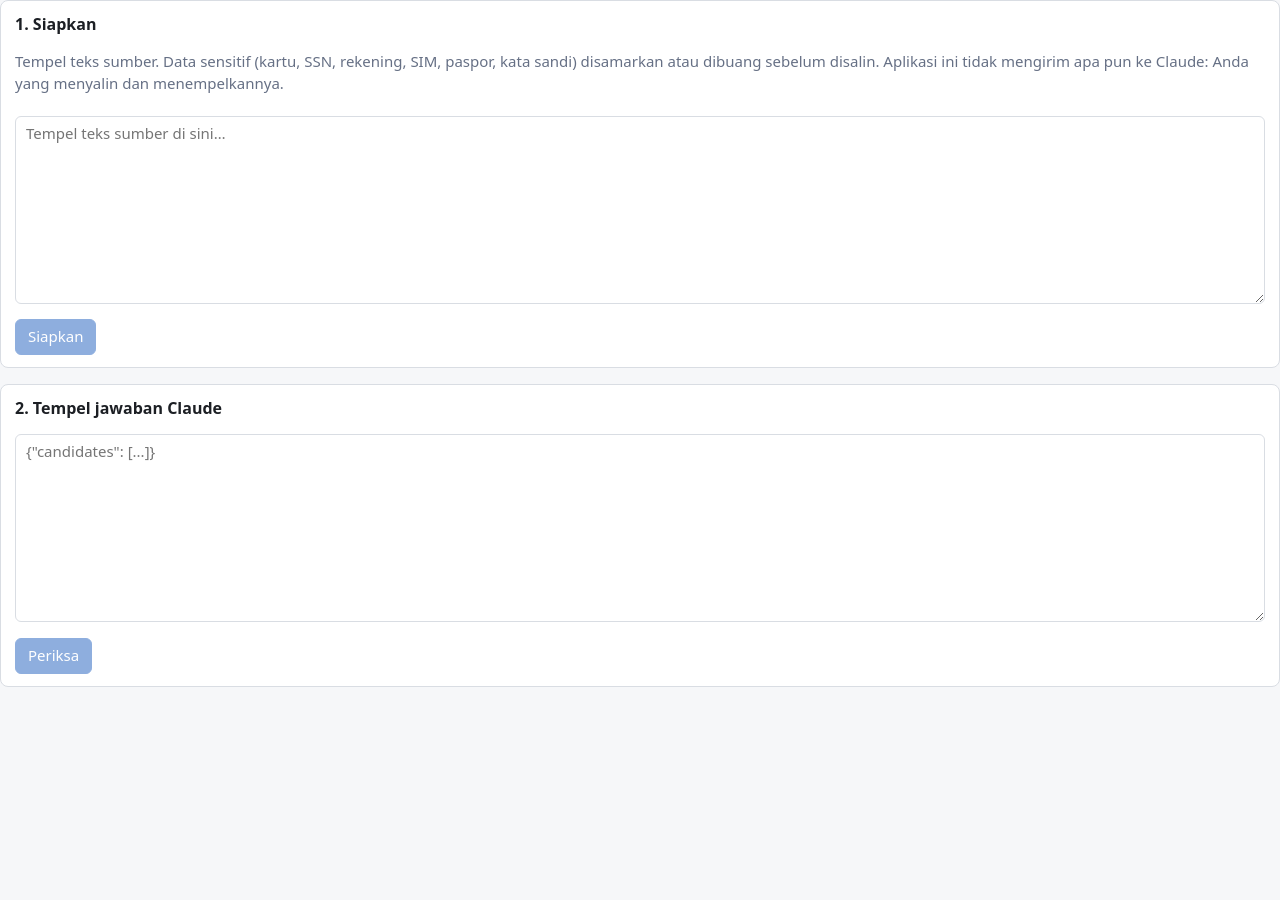
BridgeTab › on 409 shows the reload message and asks the workspace to reload
The width and height of the screenshot is (1280, 900).
Type "src" into the text box labelled "teks sumber" at {"x": 640, "y": 210}, box [15,116,1265,304]
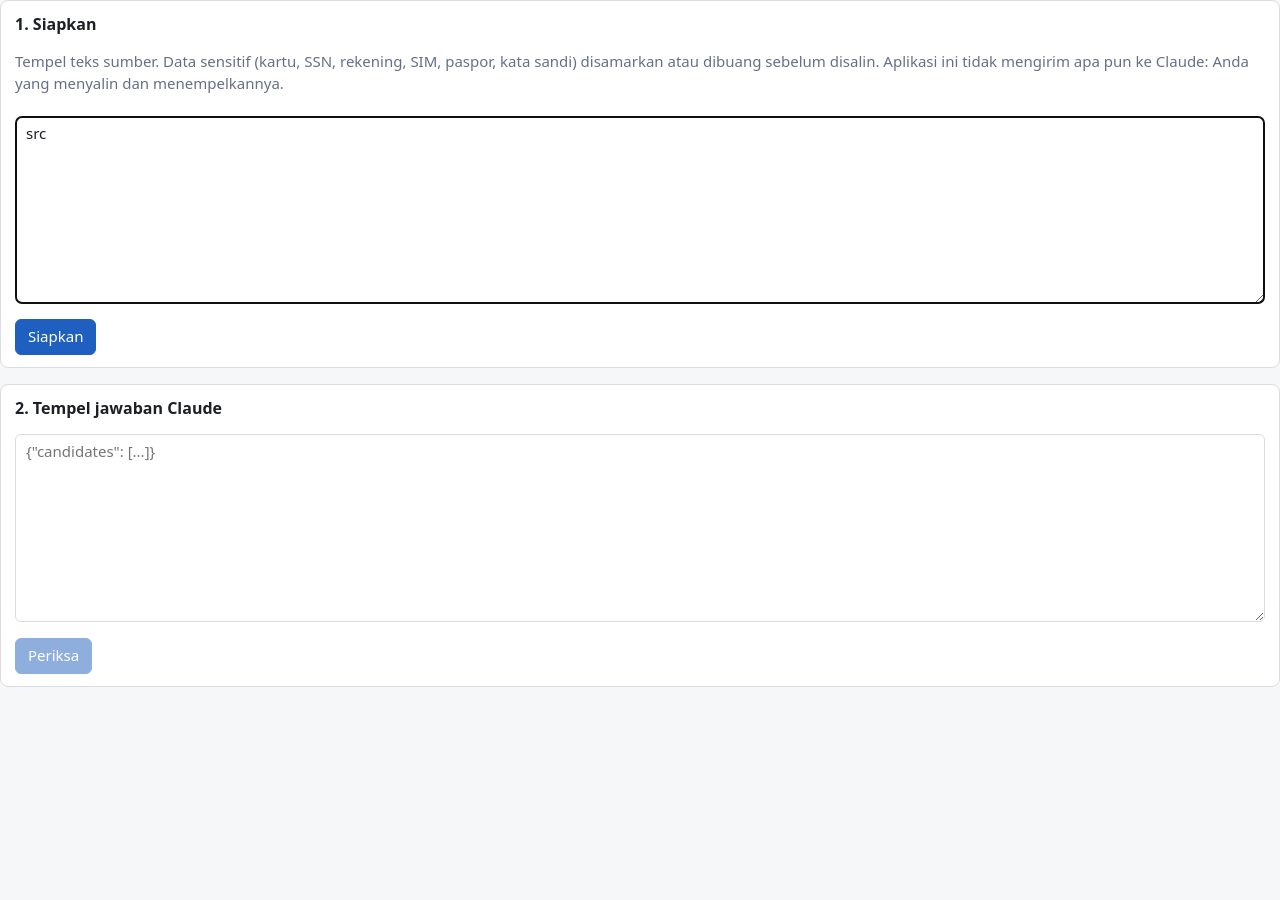
Type "x" into the text box named "Jawaban JSON dari Claude" at {"x": 640, "y": 528}, box [15,434,1265,622]
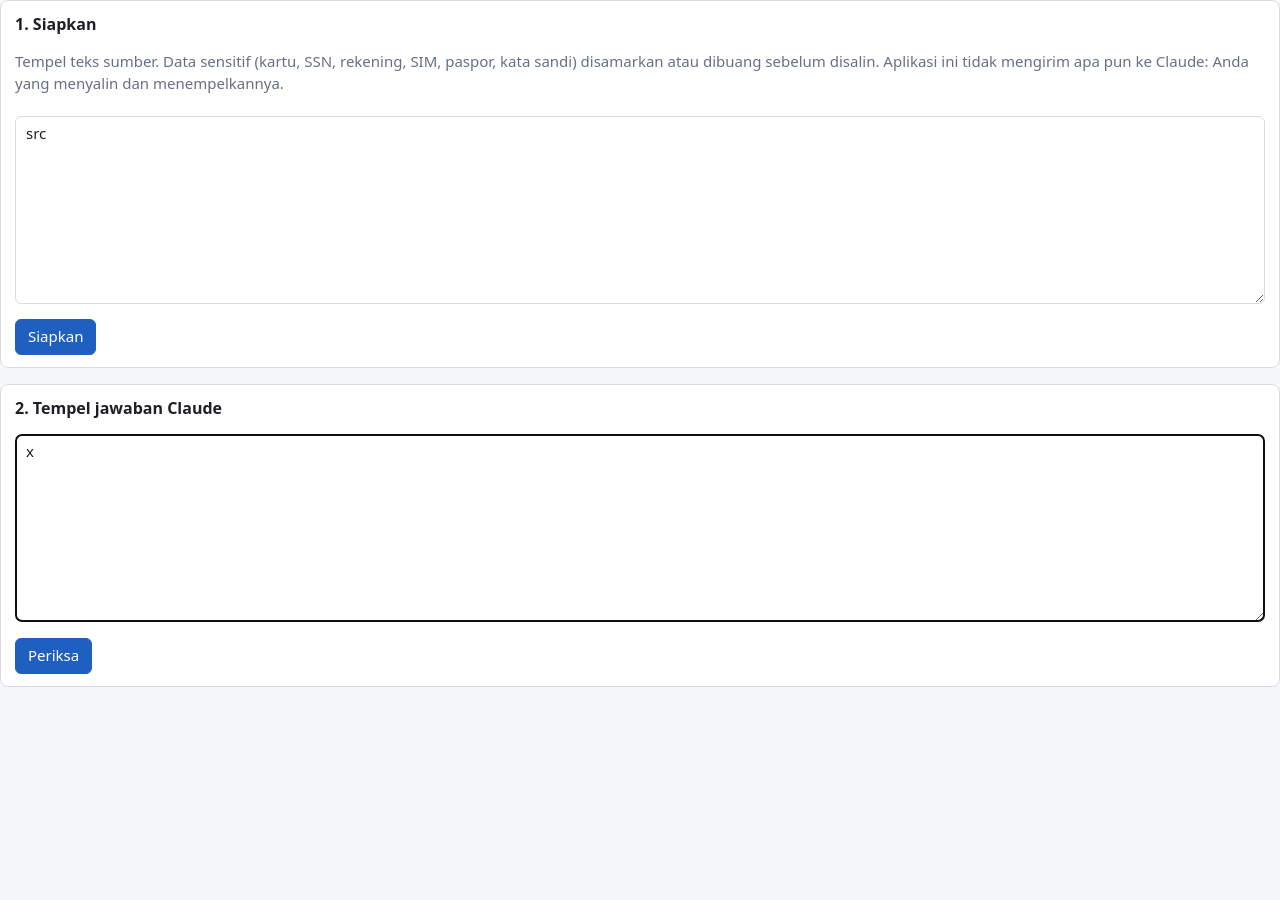
Click the button "Periksa" at {"x": 54, "y": 656}, box [15,638,92,674]
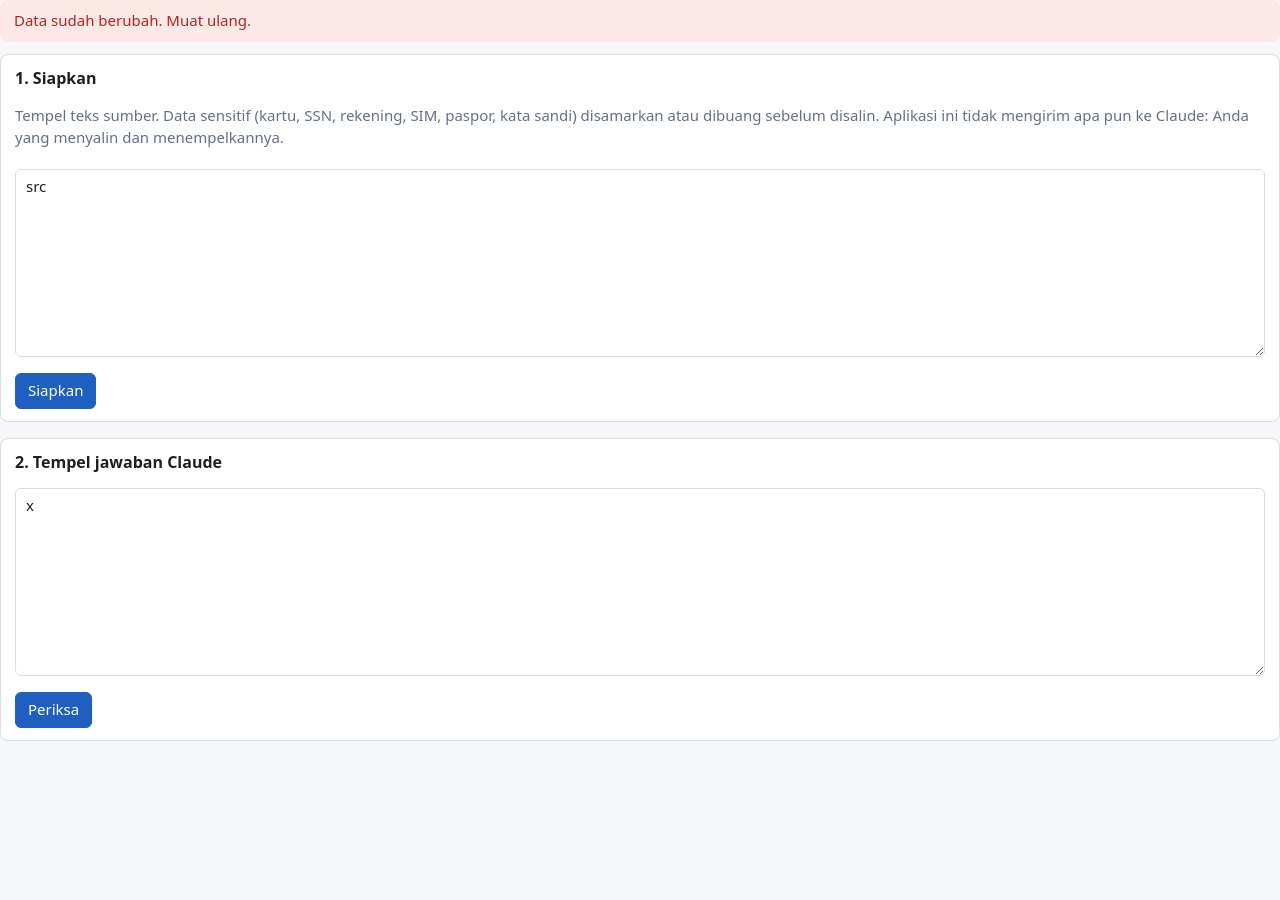
Expected: the text "Data sudah berubah. Muat ulang." is shown, [14,10,251,32]
